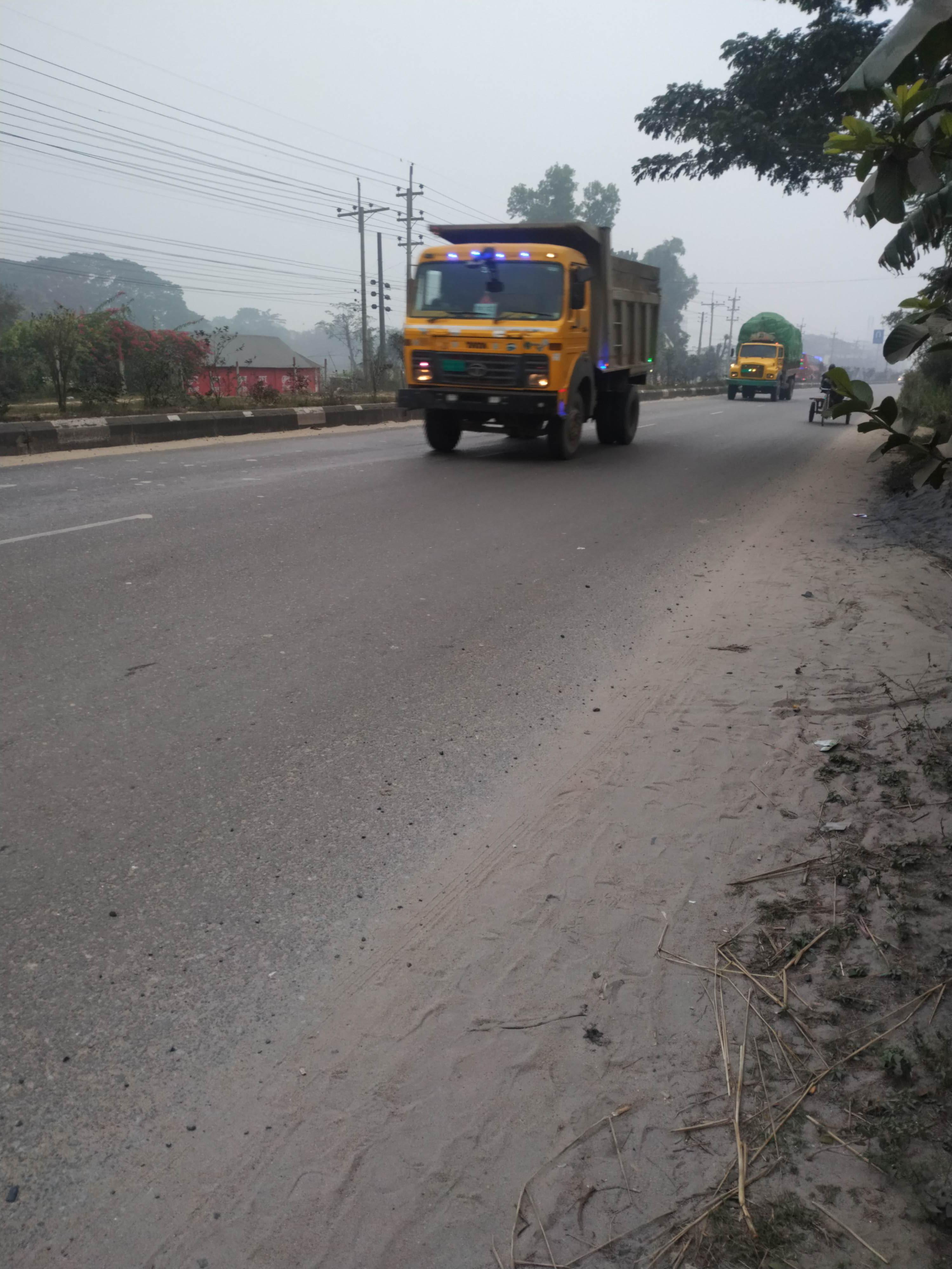Truck: (375, 205, 691, 473), (717, 304, 817, 424)
